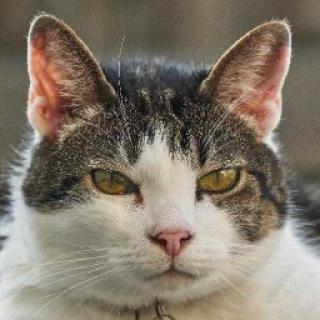cat: (24, 13, 298, 300)
nose: (141, 213, 199, 264)
